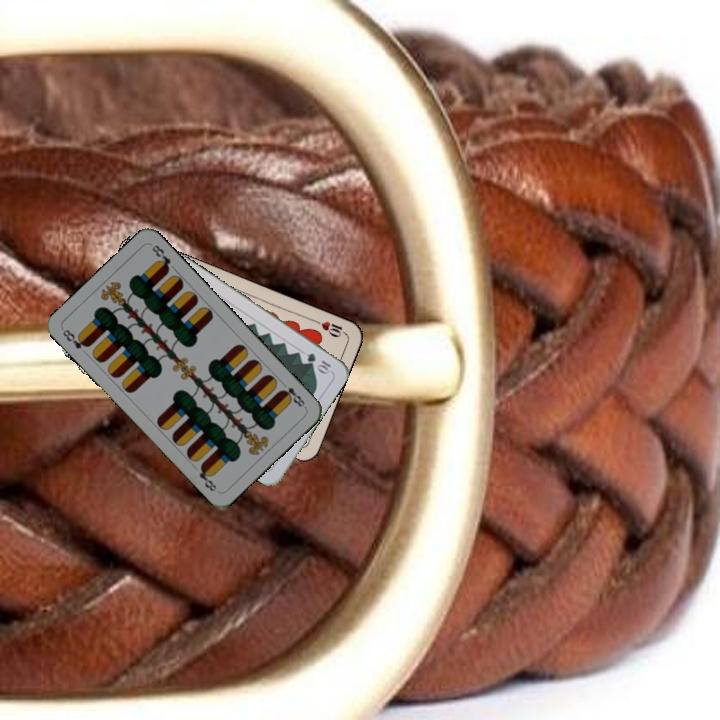E8: (276, 377, 308, 410), (58, 325, 92, 352)
G10: (303, 349, 334, 376)
H10: (309, 316, 348, 340)
